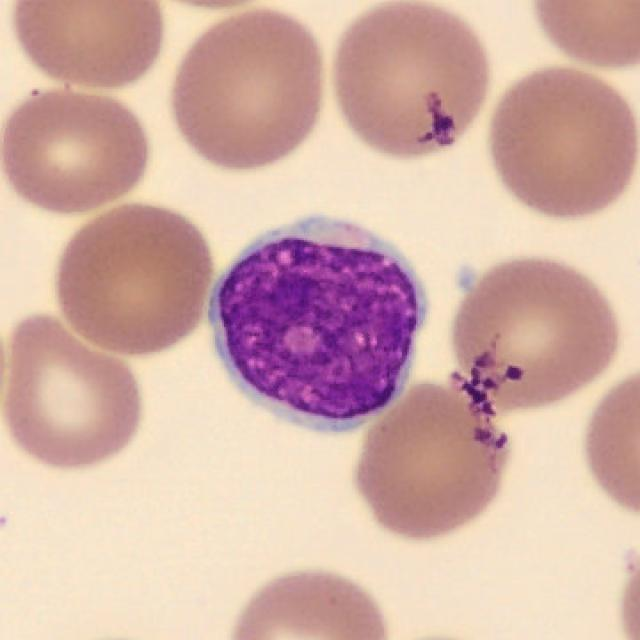Linfocito: (208, 215, 423, 432)
